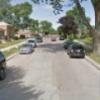cars: (66, 43, 86, 59), (0, 49, 8, 83), (18, 42, 34, 56)
